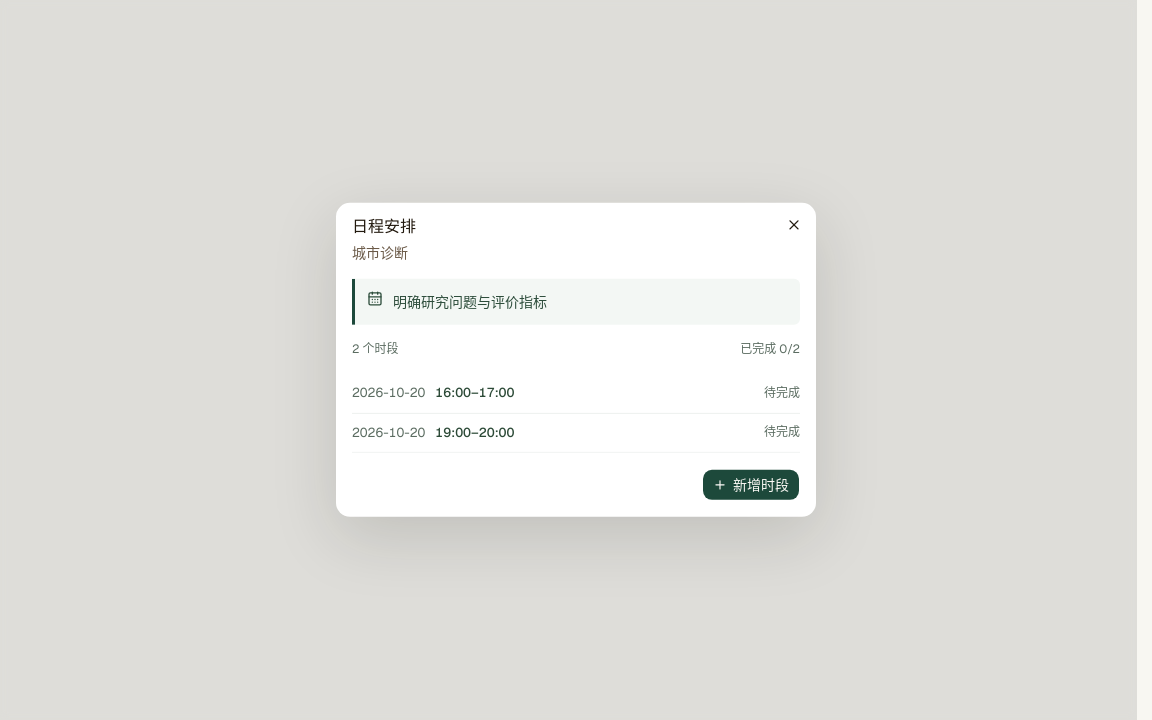
it: project work session controls › adds a third session without replacing the first two
This screenshot has width=1152, height=720.
Expected: the number of list items is 2, [352,374,800,414]; [352,414,800,453]
Click the button "新增时段".
click(751, 485)  # box [702,469,800,501]
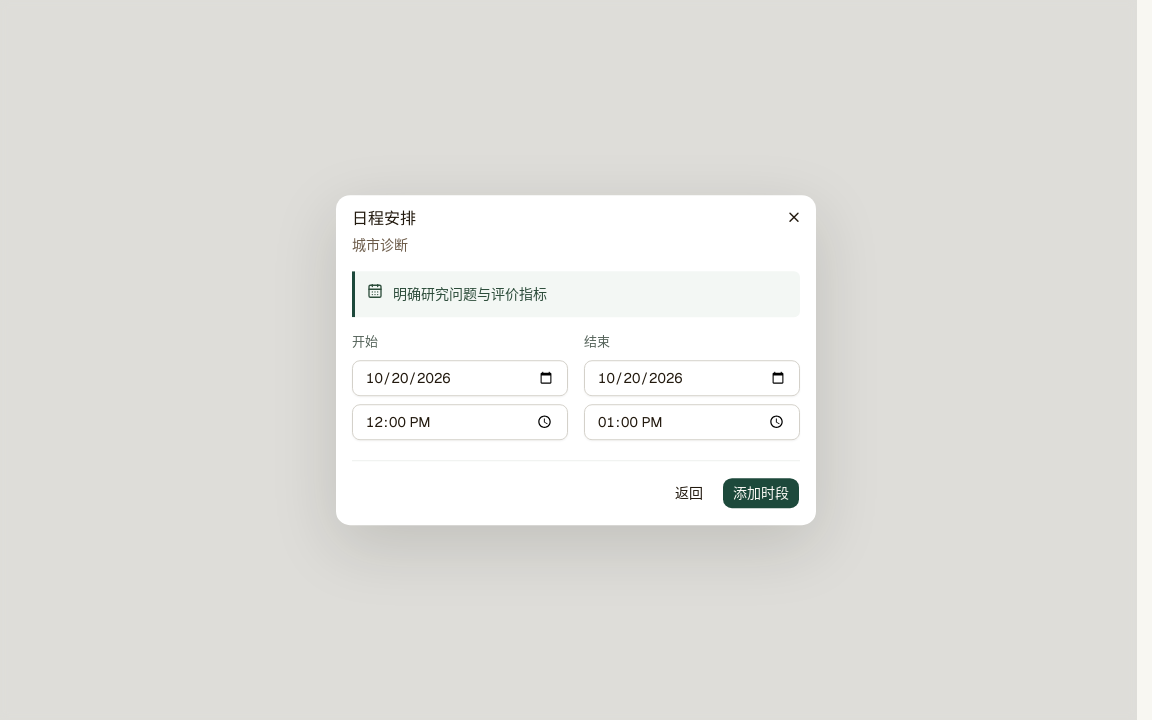
Replace the text in the time field named "安排开始时间" with "21:00" at [460, 422], box [352,404,568,440]
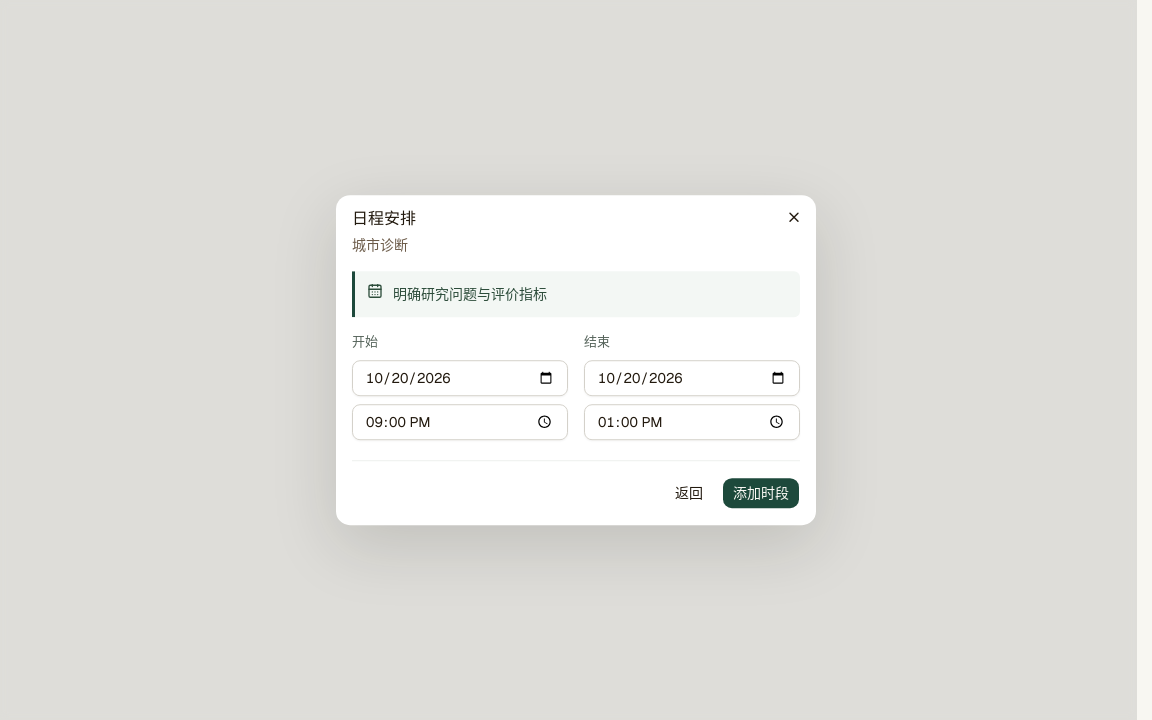
Replace the text in the time field named "安排结束时间" with "22:00" at [692, 422], box [584,404,800,440]
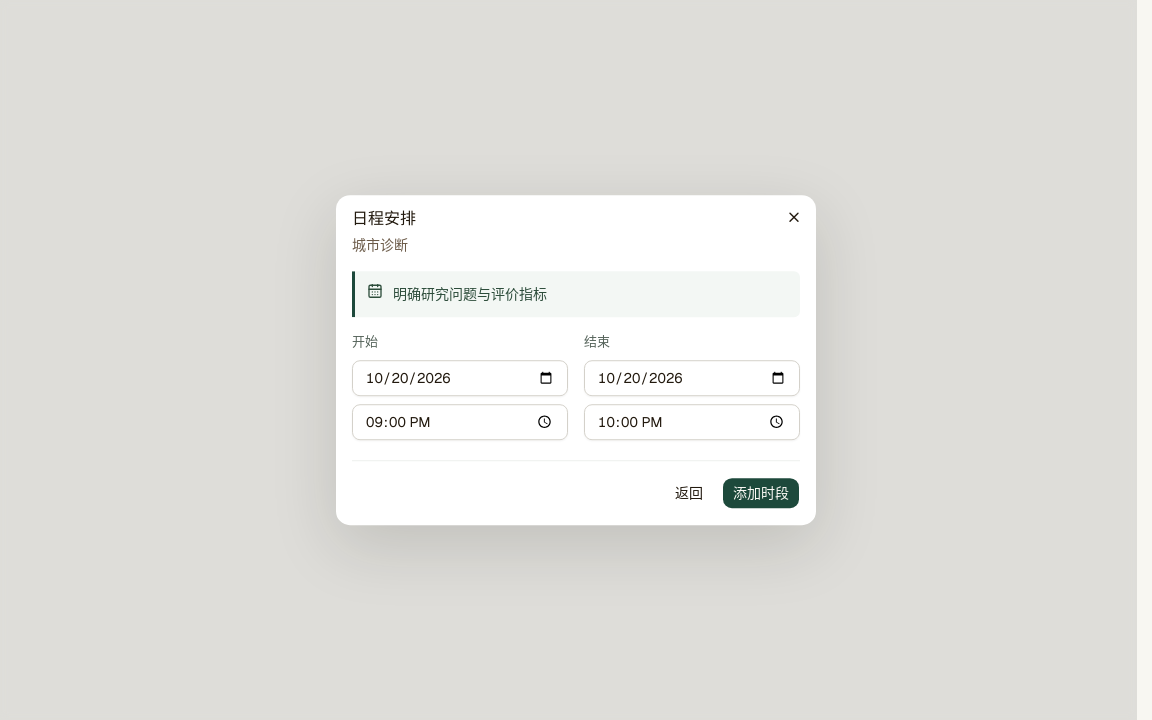
Click the button "添加时段".
click(761, 493)  # box [722,477,800,509]
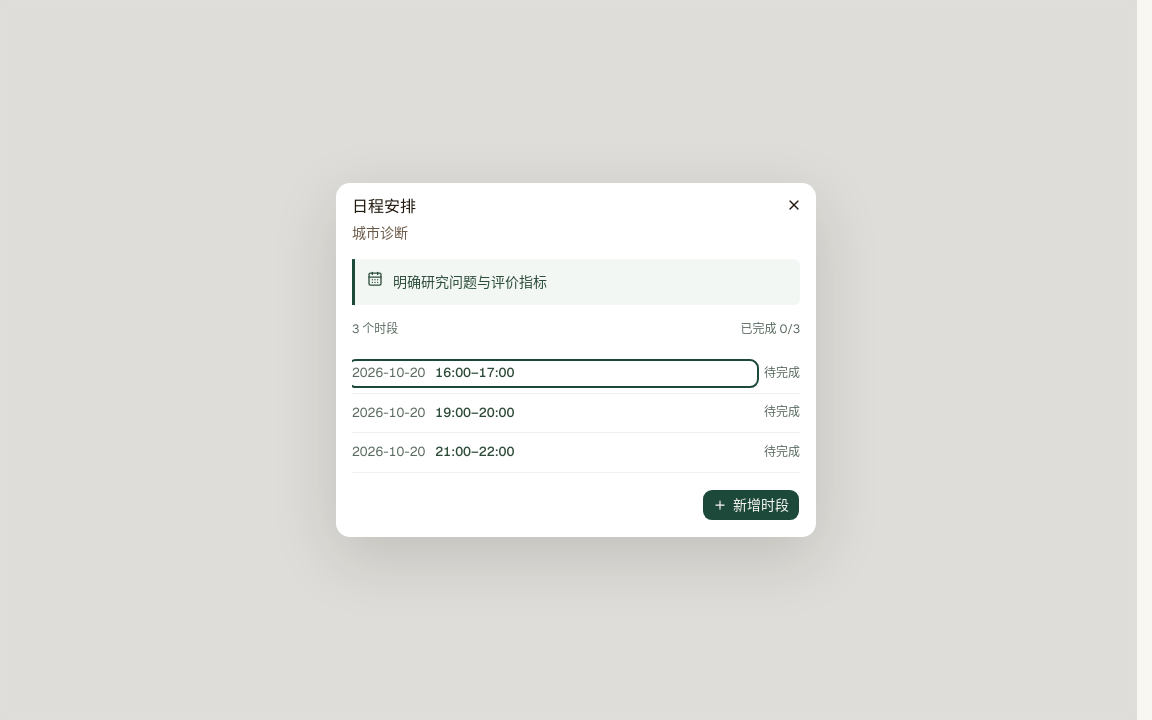
Expected: the number of list items is 3, [352,354,800,394]; [352,394,800,433]; [352,433,800,473]
Expected: the text "16:00–17:00" is shown, [435,364,514,383]
Expected: the text "19:00–20:00" is shown, [435,404,514,422]
